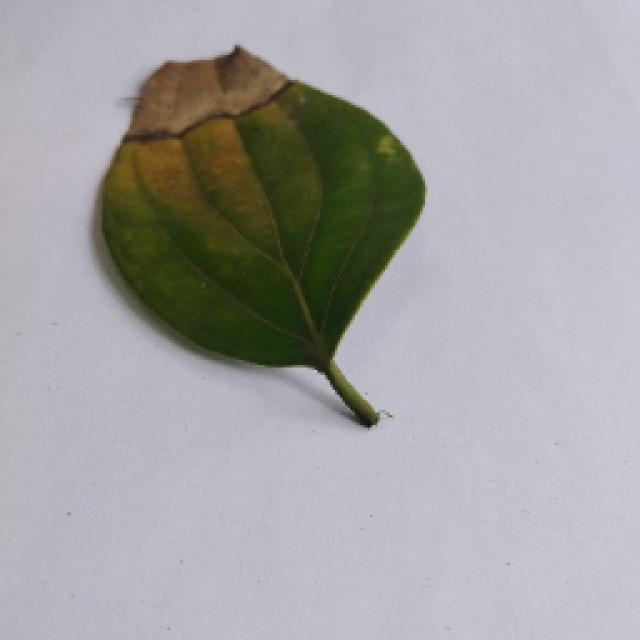footrot: (82, 38, 430, 428)
